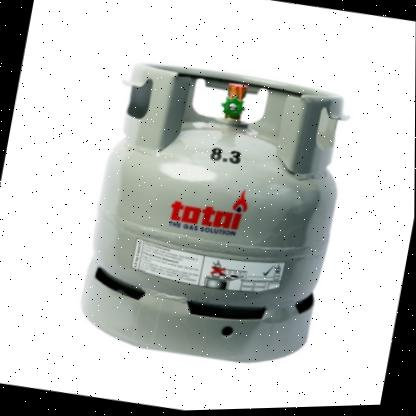gas-tank: (63, 43, 374, 389)
